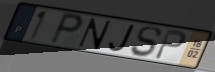1: (28, 9, 52, 43)
J: (107, 24, 137, 53)
N: (76, 17, 113, 51)
P: (48, 11, 85, 47), (153, 28, 188, 61)
S: (129, 26, 163, 58)
